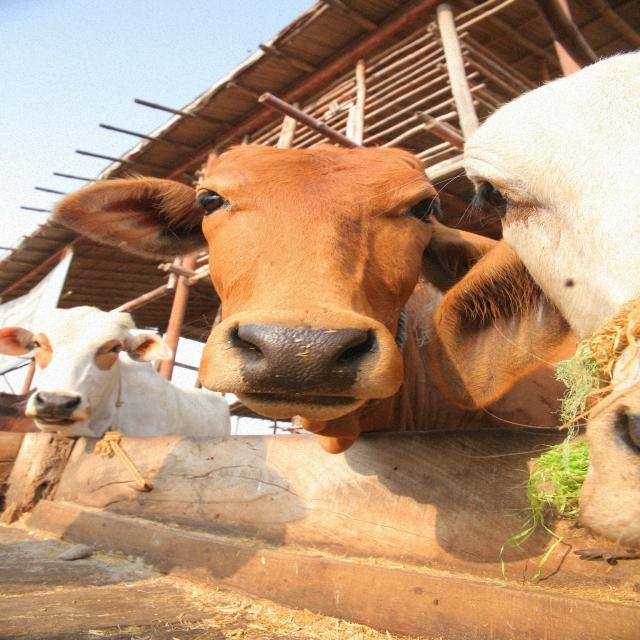muzzles: (198, 308, 388, 407), (24, 388, 86, 427)
